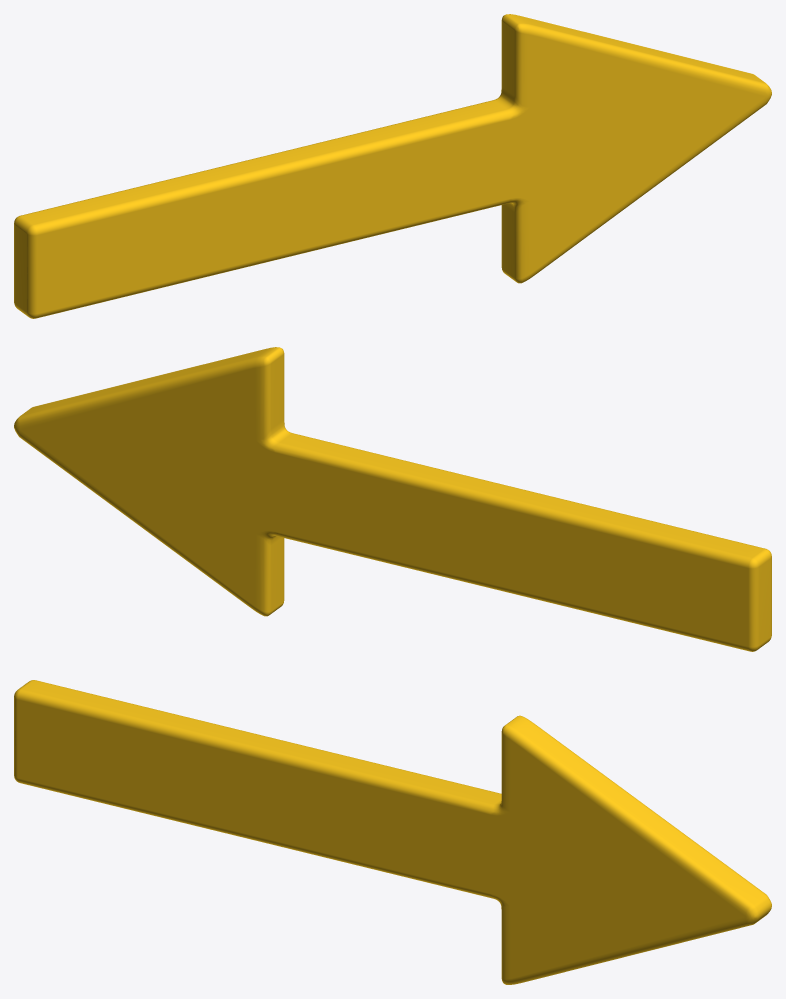
The model's file is arrow_straight.fbx.
3 views of the same model, one above another, from view 1: azimuth 30°, elevation 25°; view 2: azimuth 150°, elevation 25°; view 3: azimuth 330°, elevation 25° (orthographic).
Parts seen in each view (by area): view 1: node_id30; view 2: node_id30; view 3: node_id30.
Boxes of the visible parts, box(x1,y1,x2,y2) form: node_id30: box(14, 14, 771, 318); node_id30: box(14, 347, 771, 651); node_id30: box(14, 680, 771, 984).
Size of the model in its own units: 1.32 by 0.441 by 0.062.
Materials: 1 (1 with a texture image).
